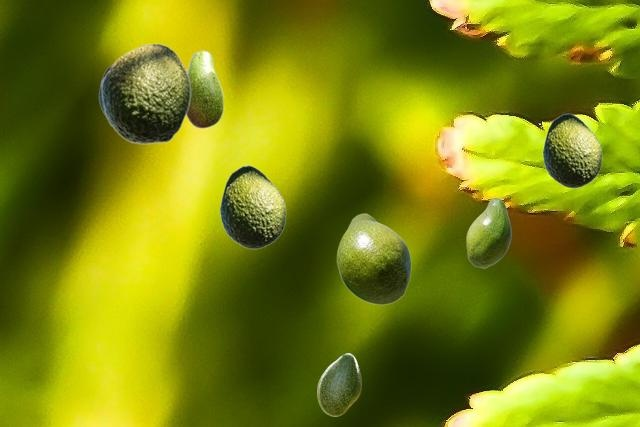avocado: (100, 43, 190, 143), (336, 213, 410, 304), (219, 165, 285, 248), (542, 113, 601, 187), (466, 197, 510, 267), (186, 49, 223, 128), (317, 353, 360, 415), (98, 65, 110, 114)
